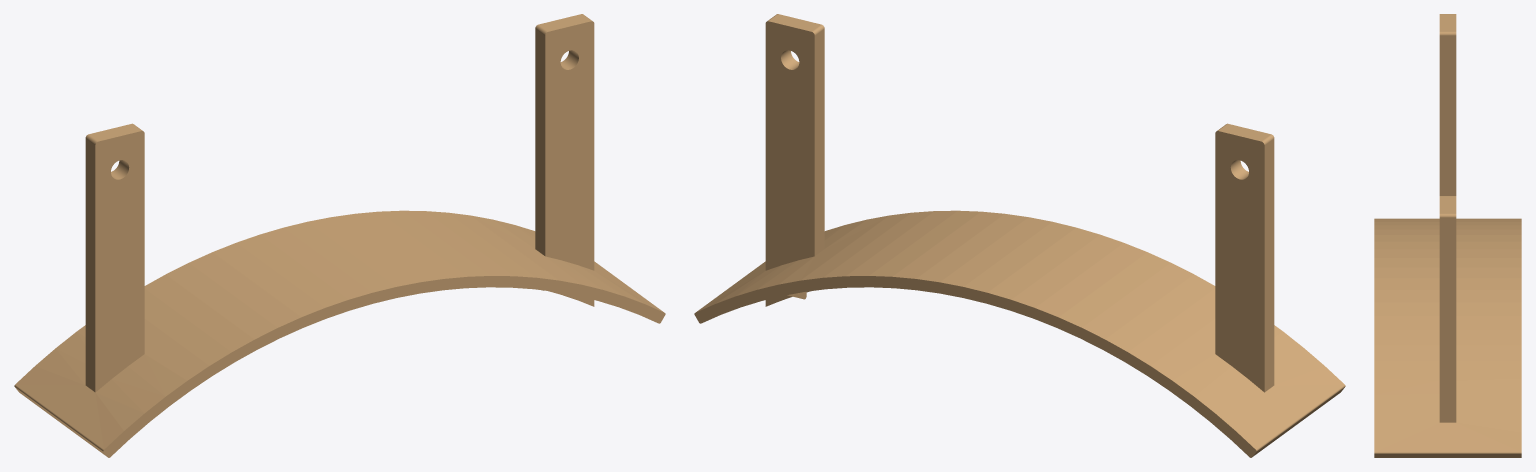
Rendered from ponte.glb.
The picture shows the model from 3 angles, left to right: view 1: azimuth 30°, elevation 25°; view 2: azimuth 150°, elevation 25°; view 3: azimuth 270°, elevation 25°; orthographic projection. The views are drawn at different scales.
Parts seen in each view (by area): view 1: ponte.stl; view 2: ponte.stl; view 3: ponte.stl.
Boxes of the visible parts, x1,y1,x2,y2 form: ponte.stl: (14, 14, 665, 457); ponte.stl: (694, 14, 1345, 457); ponte.stl: (1374, 14, 1521, 457).
Size of the model in its own units: 0.105 by 0.0511 by 0.0288.
